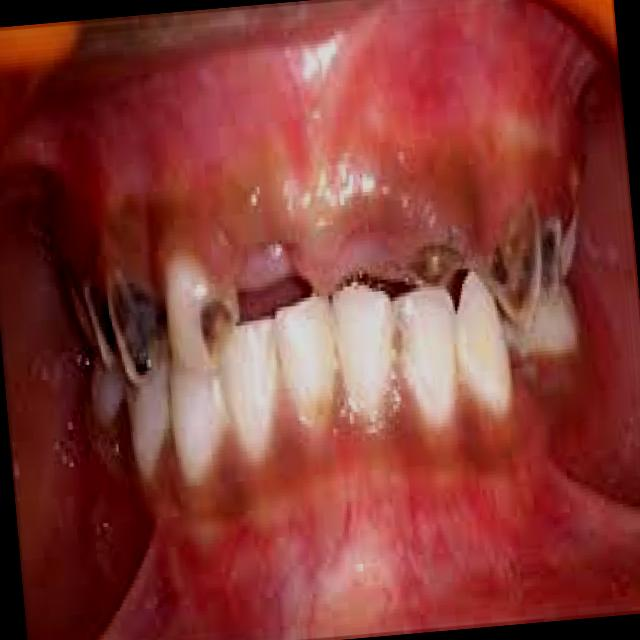caries: (477, 195, 554, 336), (188, 264, 254, 391), (104, 260, 166, 394), (400, 209, 473, 318)
